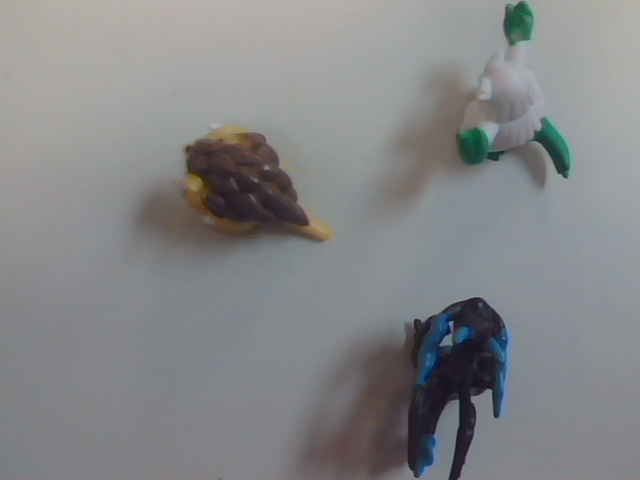abomasnow: (390, 9, 602, 203)
charizard: (348, 275, 568, 480)
sandslash: (160, 87, 342, 282)
